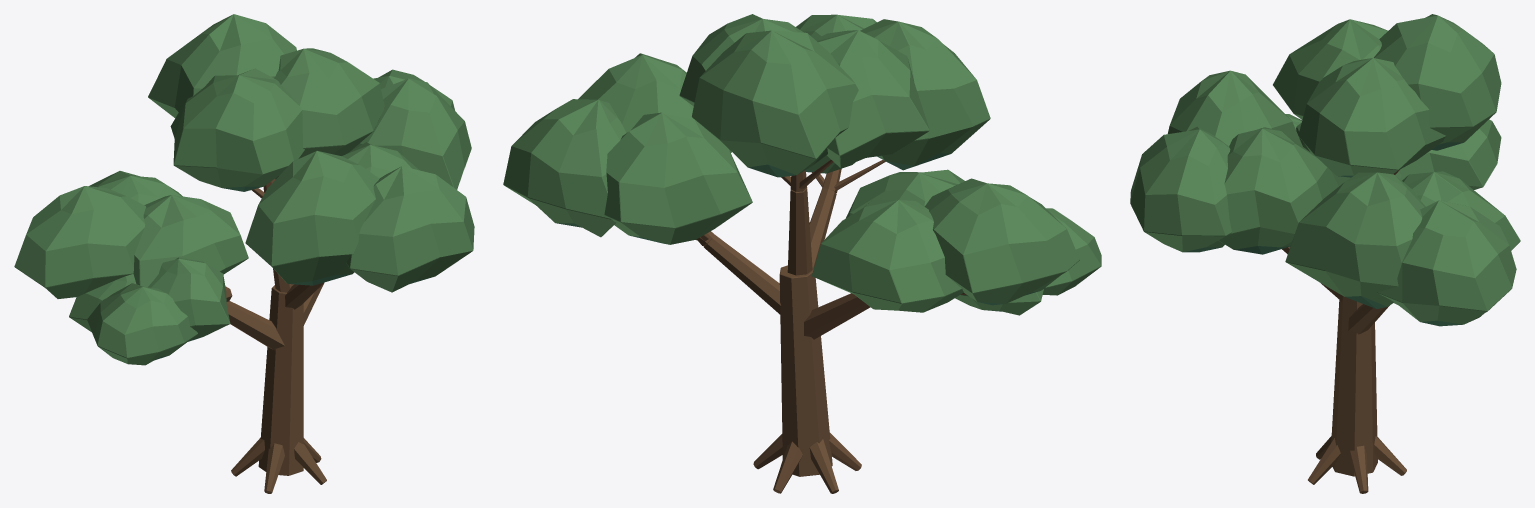
File: b08_mature_white_oak.glb
3 views of the same model, side by side, from view 1: azimuth 30°, elevation 25°; view 2: azimuth 150°, elevation 25°; view 3: azimuth 270°, elevation 25° (orthographic). The views are drawn at different scales.
Visible parts, largest first — view 1: b08_mature_white_oak; view 2: b08_mature_white_oak; view 3: b08_mature_white_oak.
Part boxes in pixels (x1,y1,x2,y2): b08_mature_white_oak: (14,14,474,493); b08_mature_white_oak: (503,14,1101,493); b08_mature_white_oak: (1130,14,1520,493).
Bounding box in the file's own units: 7.17 × 6.34 × 4.94.
